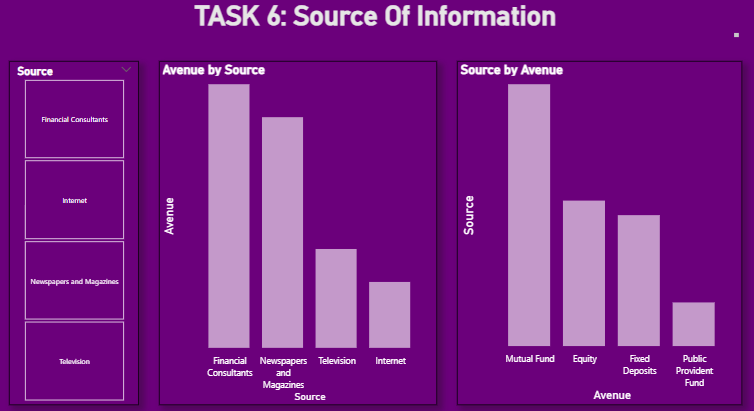

The dashboard page shown, as its layout file describes it:
{"tool":"powerbi","page":{"name":"Task 6","canvas":[1280,720],"ordinal":5},"visuals":[{"type":"textbox","title":"TASK 6: Source Of Information","box":[23.5,16.8,1231.3,68.9],"z":0},{"type":"clusteredColumnChart","fields":{"Category":["Data_set 2.Avenue"],"Y":["CountNonNull(Data_set 2.Source)"]},"box":[776.1,120.9,478.7,577.8],"z":1000},{"type":"clusteredColumnChart","fields":{"Category":["Data_set 2.Source"],"Y":["CountNonNull(Data_set 2.Avenue)"]},"box":[275.5,120.9,467,577.8],"z":2000},{"type":"slicer","fields":{"Values":["Data_set 2.Source"]},"box":[23.5,120.9,218.4,577.8],"z":3000}]}

Visuals, with their boxes on the page's 1280x720 design canvas (x1, y1, x2, y2). These are canvas units, not pixel positions in the 754x411 screenshot, which may show the page scaled, cropped or inside an application window:
"TASK 6: Source Of Information" textbox: bbox(24, 17, 1255, 86)
clusteredColumnChart - Data_set 2.Avenue x CountNonNull(Data_set 2.Source): bbox(776, 121, 1255, 699)
clusteredColumnChart - Data_set 2.Source x CountNonNull(Data_set 2.Avenue): bbox(276, 121, 742, 699)
slicer - Data_set 2.Source: bbox(24, 121, 242, 699)
